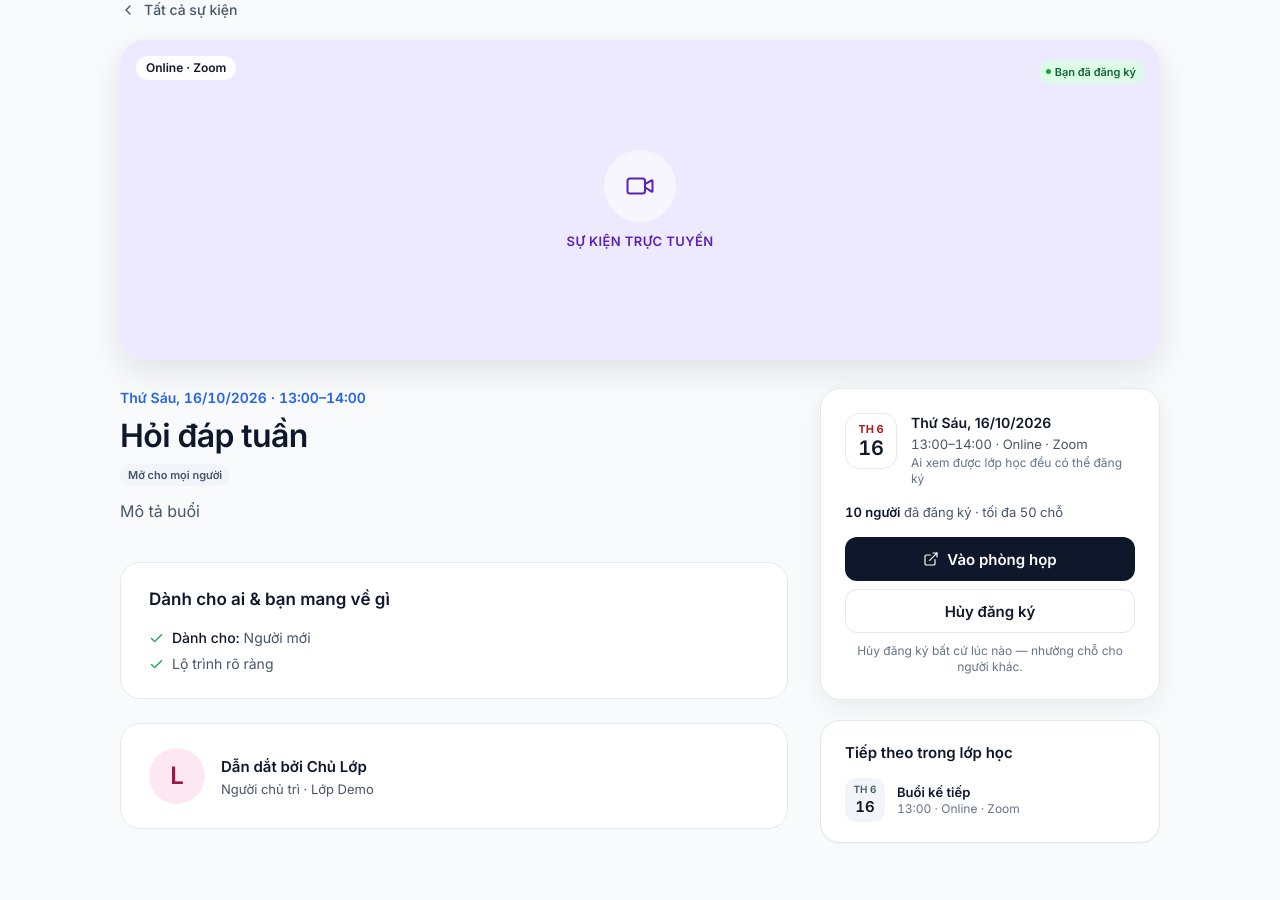
it: EventDetailPage › cancels a registration (DELETE /registrations/me) after confirming and hides the meeting link again
Check: the link "Vào phòng họp" is shown, box [845,537,1135,581]
Click the button "Hủy đăng ký".
click(990, 611)  # box [845,589,1135,633]
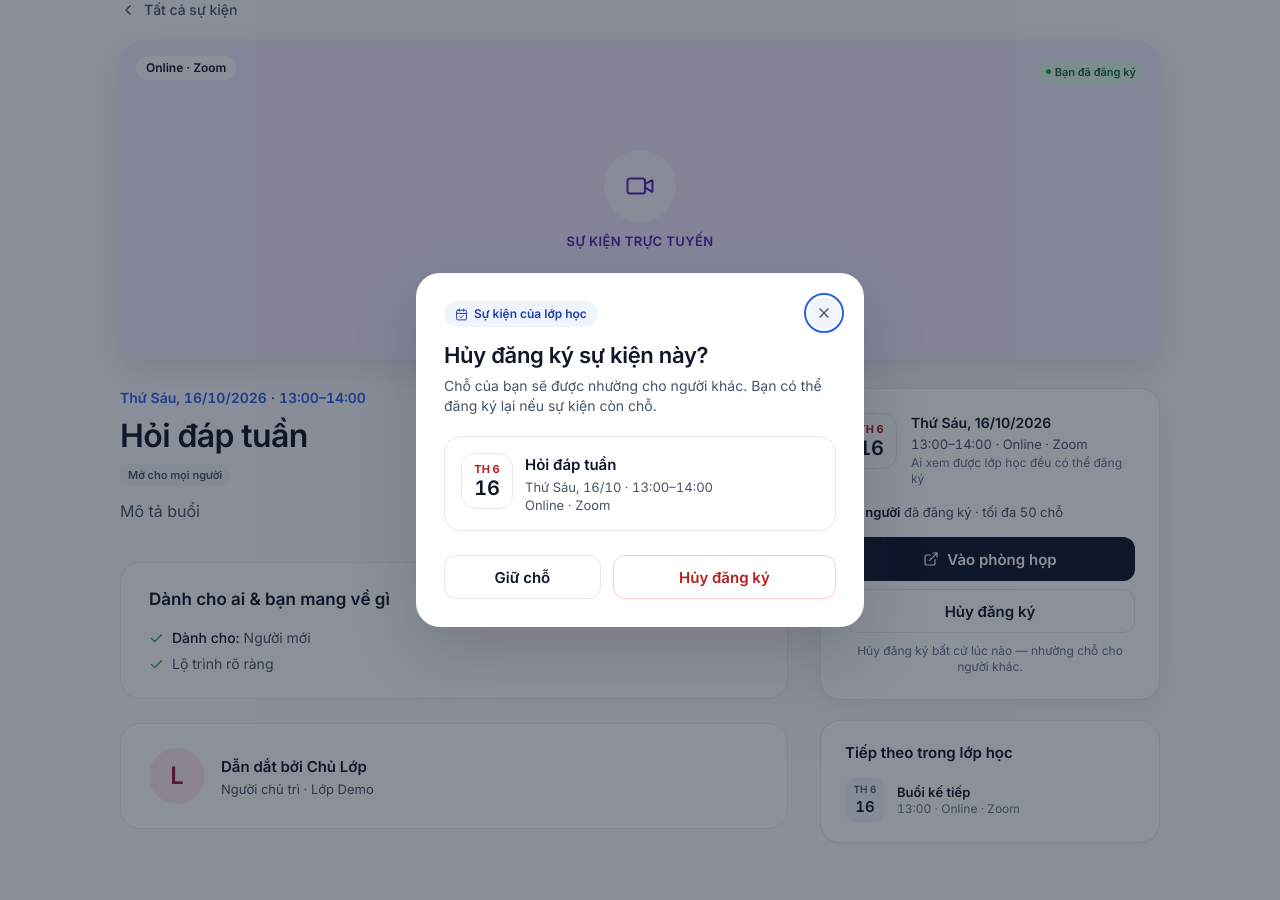
Click the button "Hủy đăng ký".
click(724, 577)  # box [613,555,836,599]
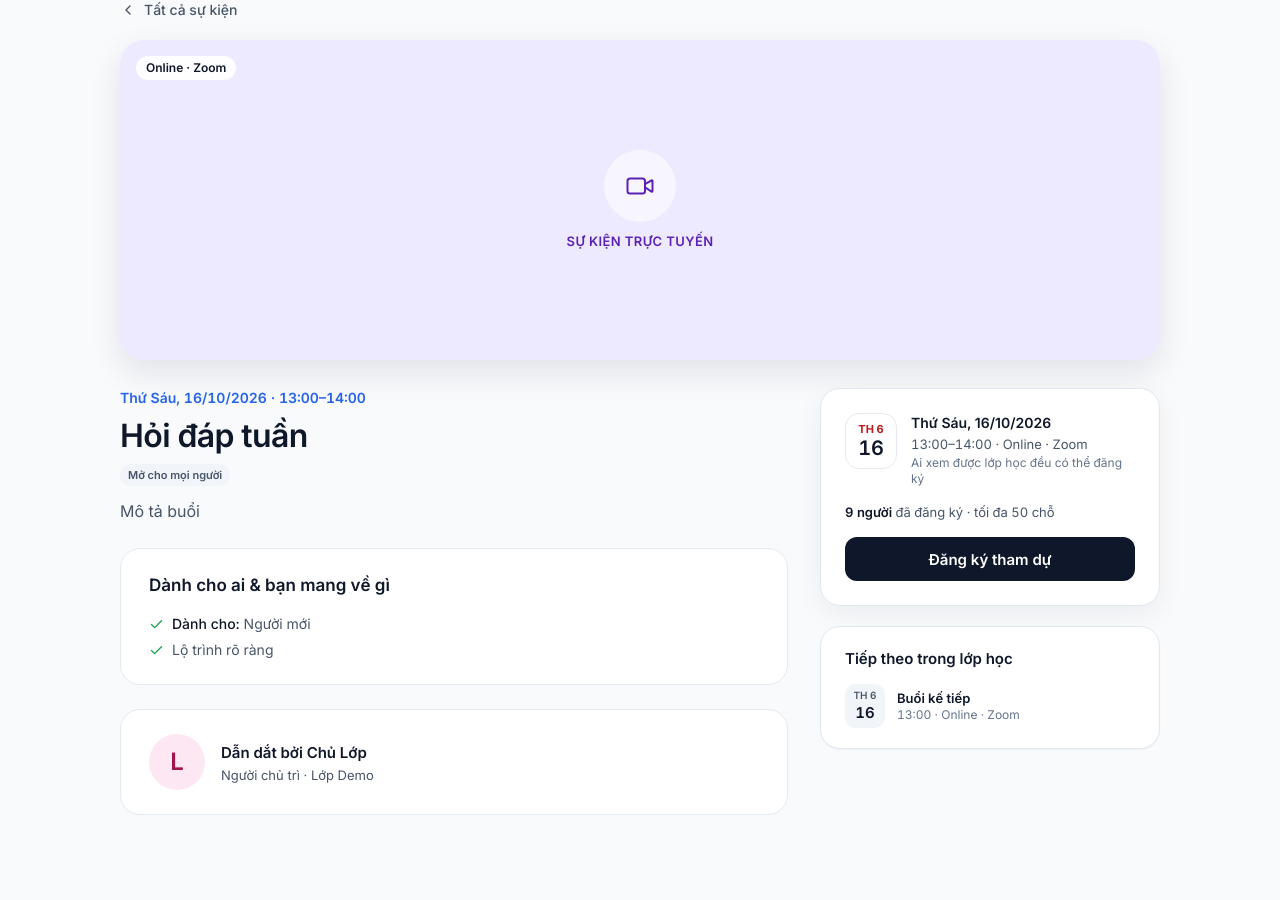
Check: the button "Đăng ký tham dự" is shown, box [845,537,1135,581]
Check: the link "Vào phòng họp" is gone
